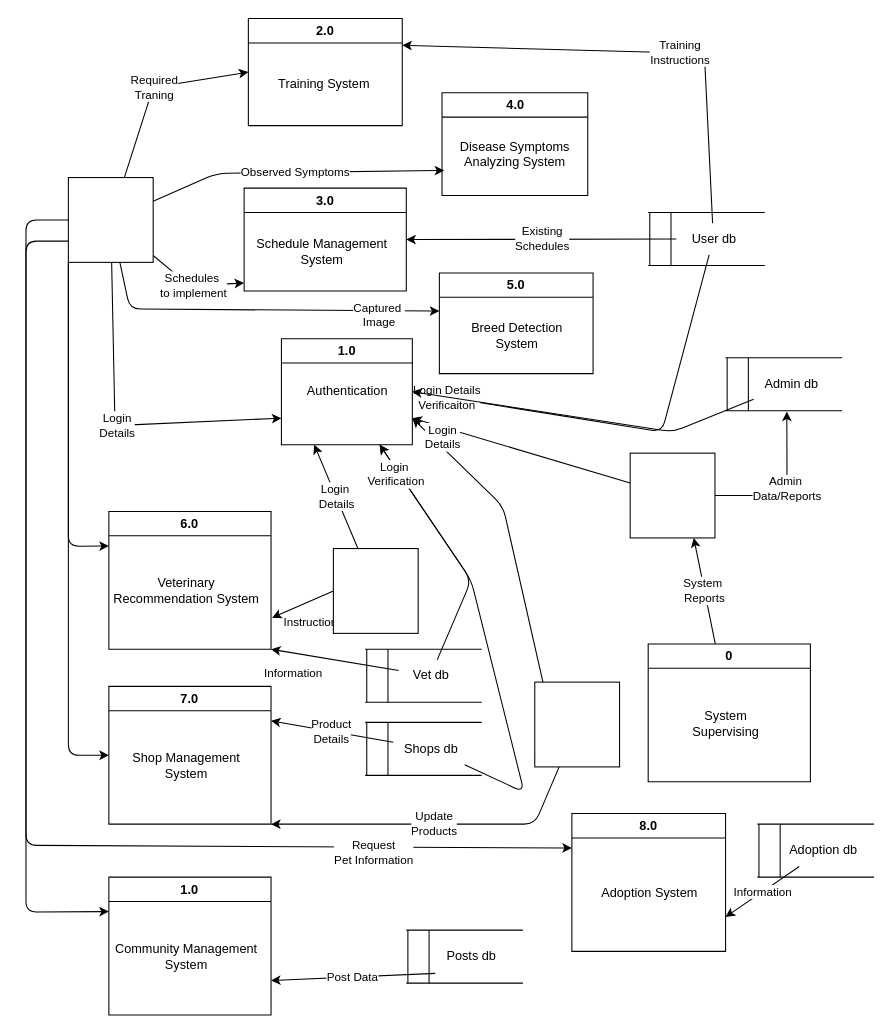
The diagram is 894 pixels wide and 1034 high, and some of its shapes have lost their labels. Each missing label, with the centre of its shape:
"Admin" belongs at (x=672, y=495).
"Pet Owner" belongs at (x=110, y=219).
"Shop Owners" belongs at (x=577, y=724).
"Veterinarian" belongs at (x=375, y=590).
